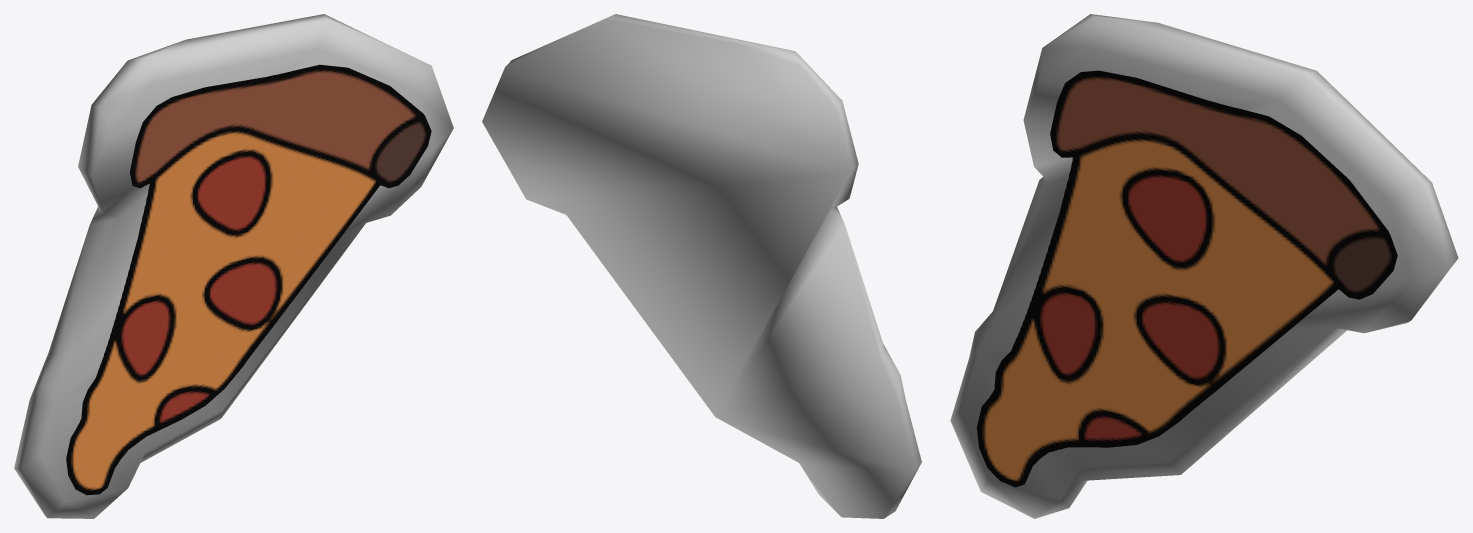
Rendered from LOD 1 Wooden Pizza Slice.fbx.
The picture shows the model from 3 angles, left to right: view 1: azimuth 30°, elevation 25°; view 2: azimuth 150°, elevation 25°; view 3: azimuth 330°, elevation 25°; orthographic projection. The views are drawn at different scales.
Visible parts, largest first — view 1: Plane.007; view 2: Plane.007; view 3: Plane.007.
Boxes of the visible parts, x1,y1,x2,y2 form: Plane.007: (14,14,453,518); Plane.007: (482,14,921,518); Plane.007: (950,14,1458,518).
Bounding box in the file's own units: 45.63 × 45.23 × 3.41.
